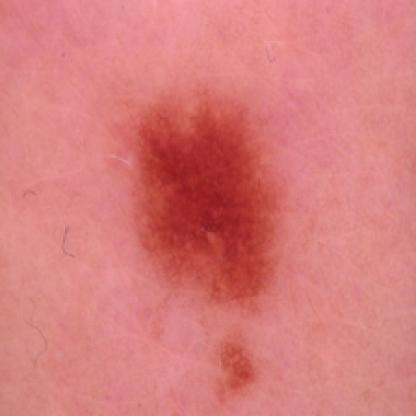benign: (132, 93, 290, 412)
